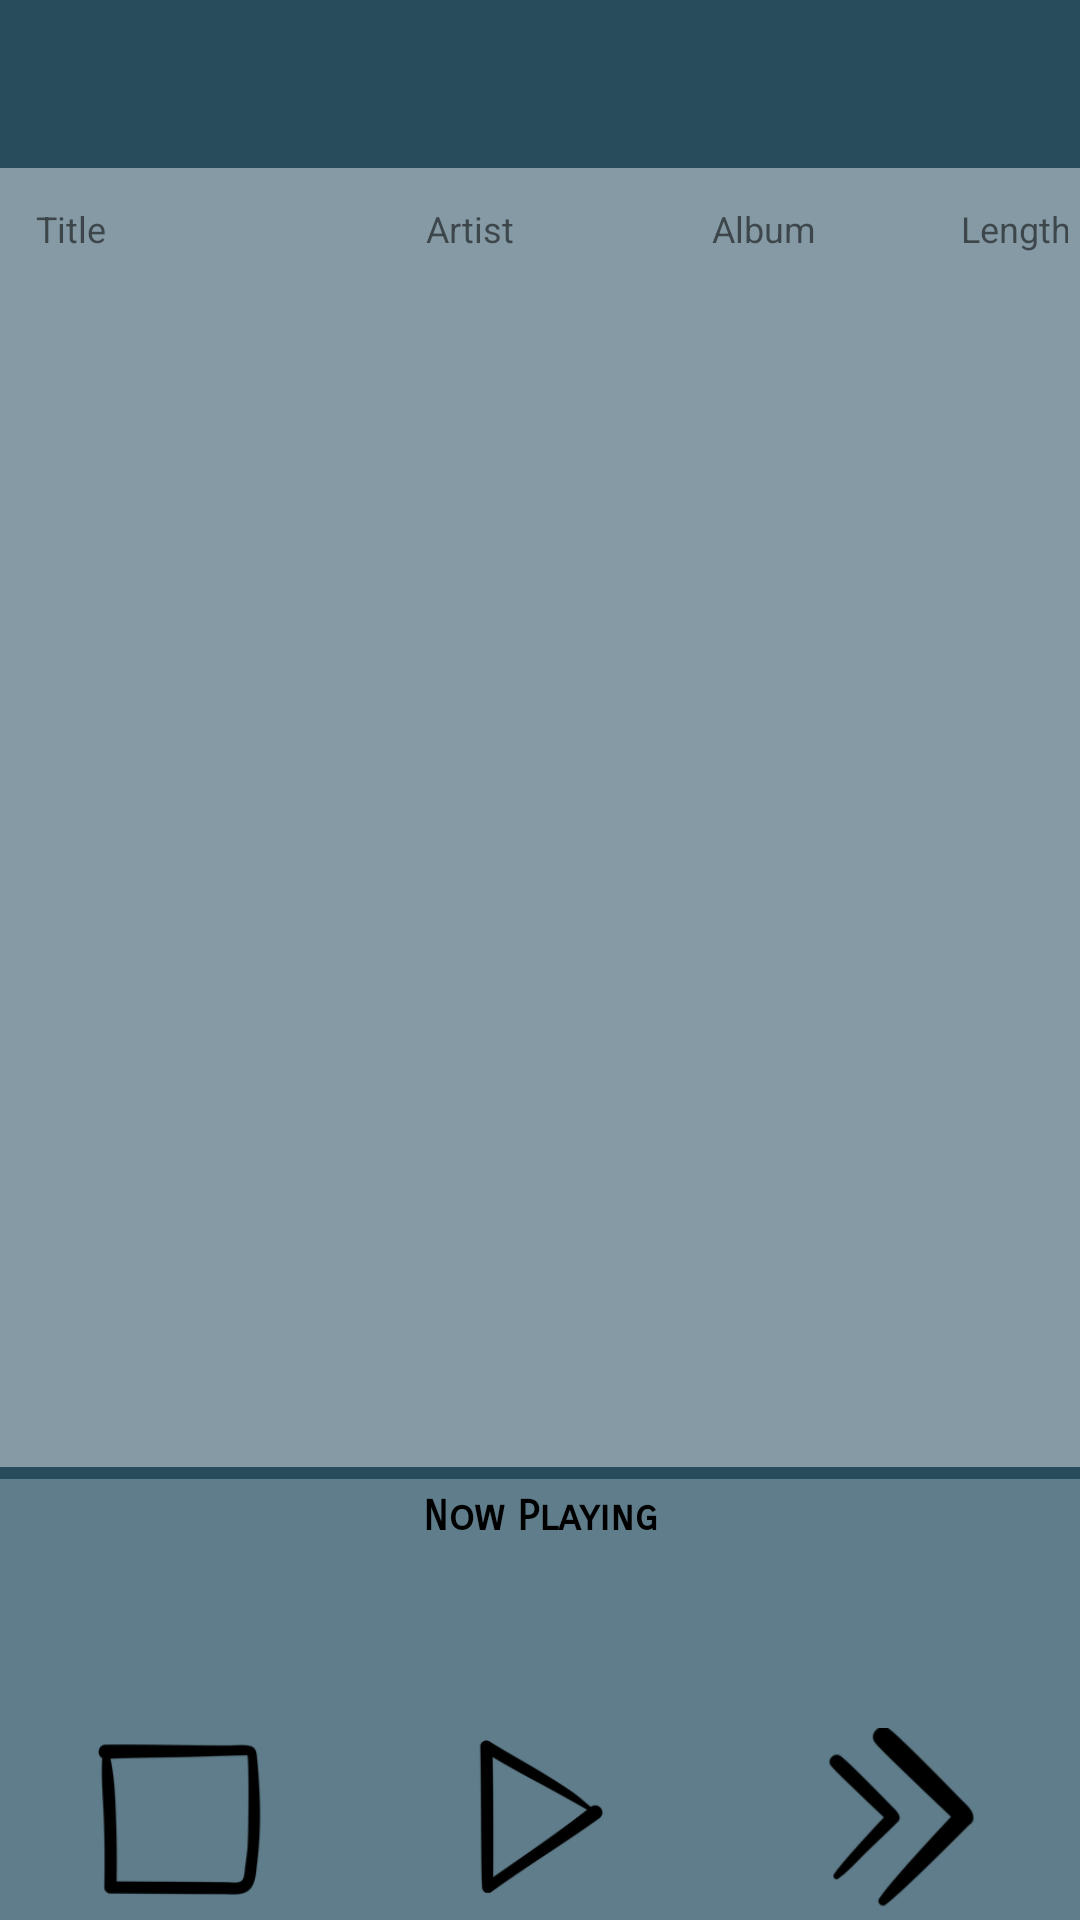

Named icons in this screenshot (1080×1920) and their centers, (x,y):
Forward song: (901,1817)
Play Now: (541,1816)
Stop Playing: (179,1819)
